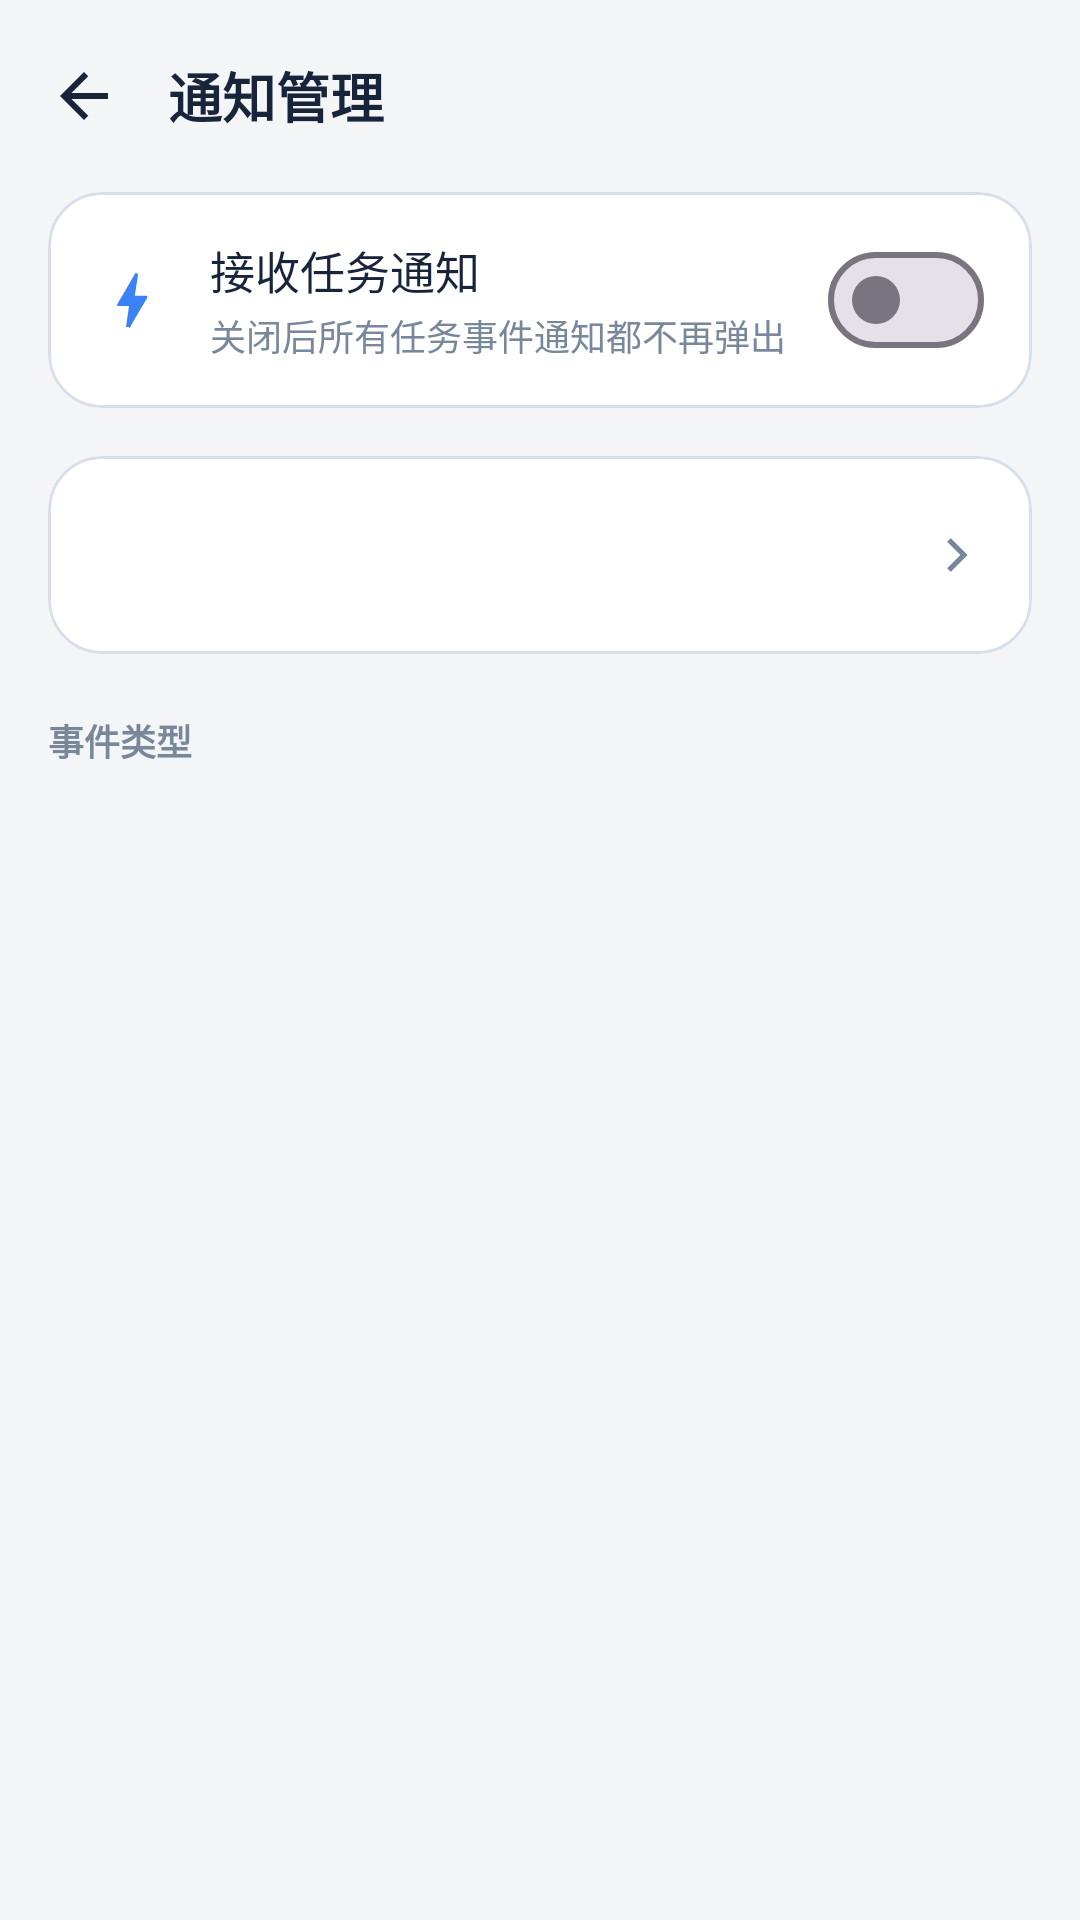

Icons on this 1080px×1920px Android screen, each with the point to tap as [x,y]:
chevron right: [957,555]
返回: [84,96]
